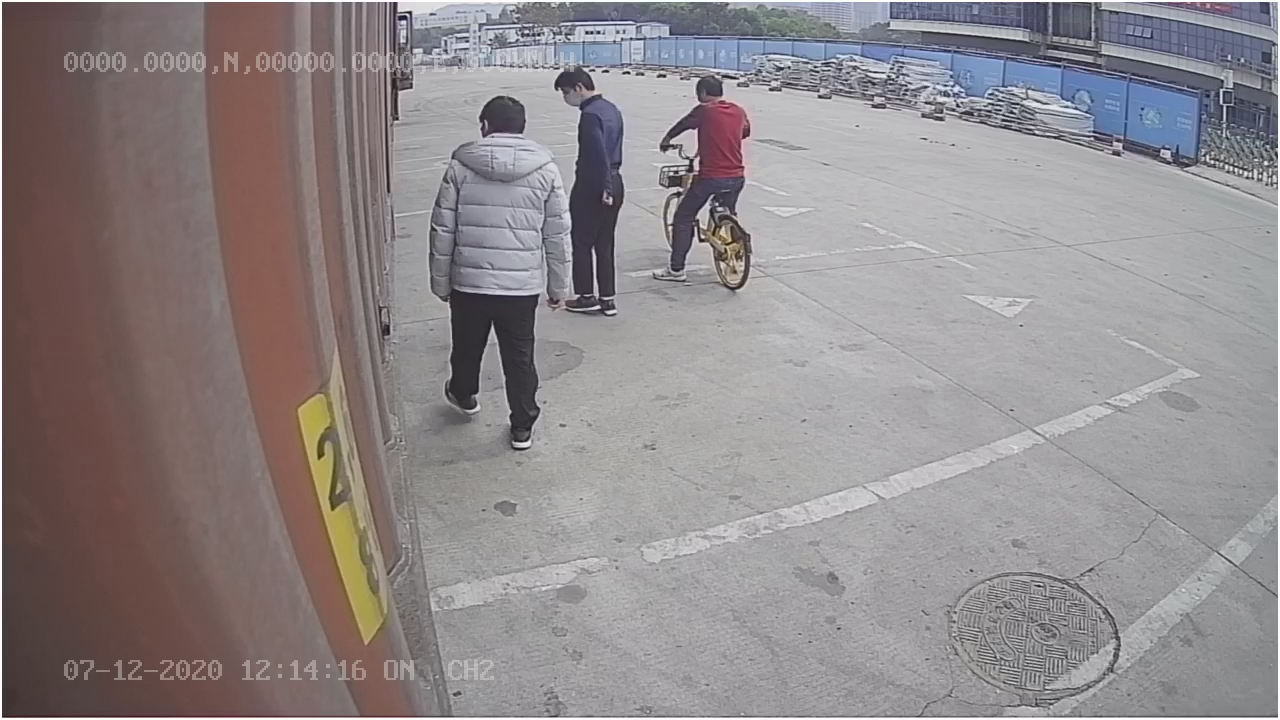person: (431, 94, 574, 449)
